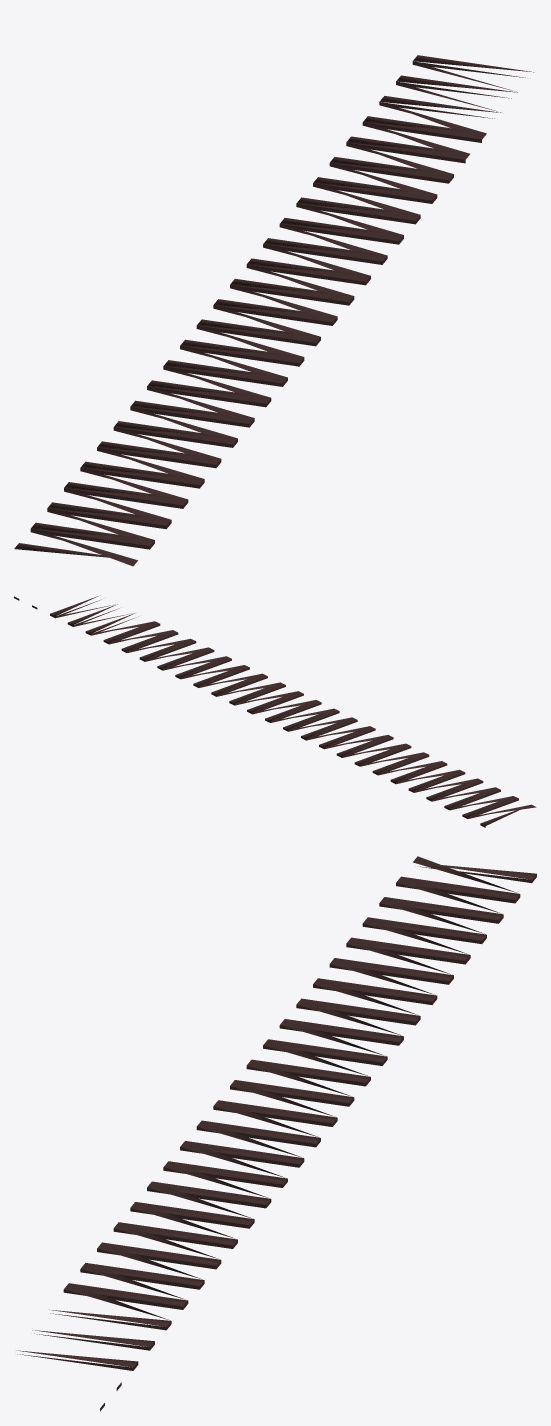
3 renders of one model, top to bottom at view 1: azimuth 90°, elevation 25°; view 2: azimuth 150°, elevation 25°; view 3: azimuth 270°, elevation 25°, orthographic. The views are drawn at different scales.
Size of the model in its own units: 22.08 by 0.064 by 8.84.
